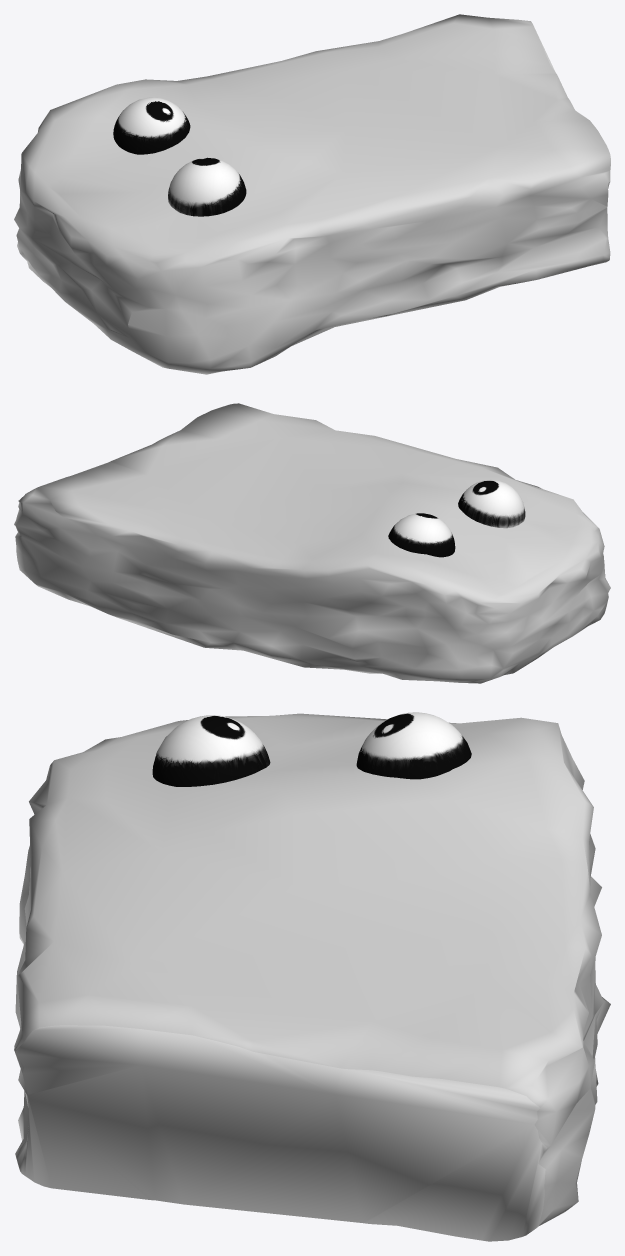
The model's file is Nugget_kaputt.fbx.
3 views of the same model, one above another, from view 1: azimuth 30°, elevation 25°; view 2: azimuth 150°, elevation 25°; view 3: azimuth 270°, elevation 25° (orthographic). The views are drawn at different scales.
Visible parts, largest first — view 1: Cube, Sphere.002, Sphere.001; view 2: Cube, Sphere.002, Sphere.001; view 3: Cube, Sphere.002, Sphere.001.
Part boxes in pixels (<box>): Cube: <box>14,14,610,374</box>; Sphere.002: <box>168,157,246,216</box>; Sphere.001: <box>113,97,190,154</box>; Cube: <box>14,403,610,683</box>; Sphere.002: <box>458,479,525,528</box>; Sphere.001: <box>388,513,455,557</box>; Cube: <box>14,713,610,1241</box>; Sphere.002: <box>152,715,270,786</box>; Sphere.001: <box>356,712,471,779</box>.
Bounding box in the file's own units: 345 × 102 × 212.
